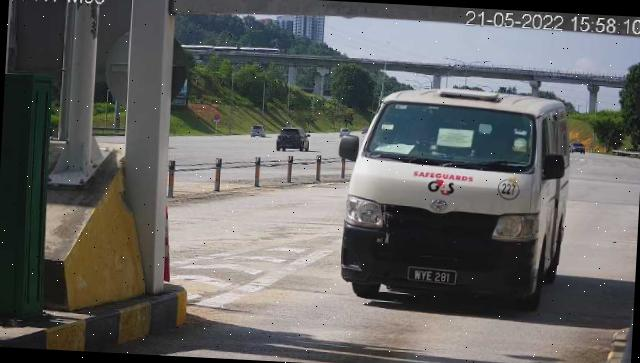License_Plate: (406, 267, 461, 290)
van: (342, 84, 575, 314)
